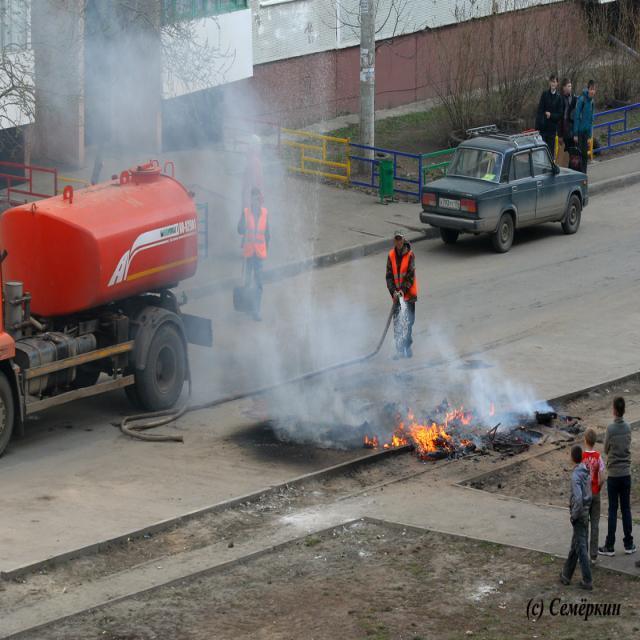Fire: (407, 407, 450, 452), (384, 414, 406, 449), (446, 407, 472, 427)
Smoke: (48, 0, 299, 330), (226, 286, 554, 449)
